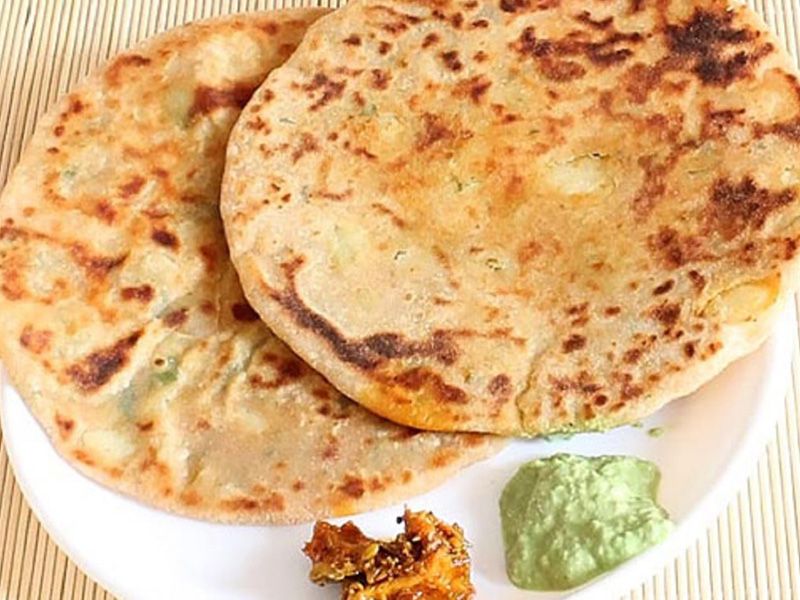aloo_paratha: (1, 3, 797, 523)
